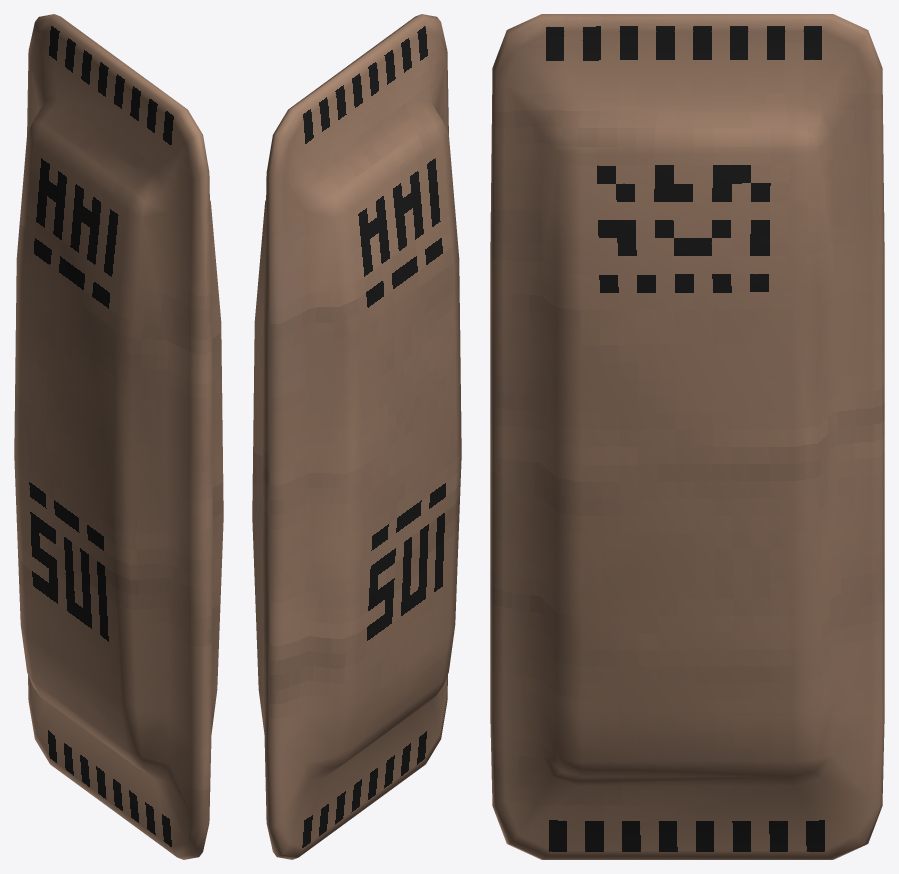
Rendered from sugar_packet.obj.
3 renders of one model, left to right at view 1: azimuth 30°, elevation 25°; view 2: azimuth 150°, elevation 25°; view 3: azimuth 270°, elevation 25°, orthographic. The views are drawn at different scales.
Parts seen in each view (by area): view 1: military_sugar_packet; view 2: military_sugar_packet; view 3: military_sugar_packet.
Part boxes in pixels (<box>): military_sugar_packet: <box>14,14,223,859</box>; military_sugar_packet: <box>252,14,461,859</box>; military_sugar_packet: <box>490,14,884,859</box>.
Bounding box in the file's own units: 0.0129 × 0.0878 × 0.0371.
